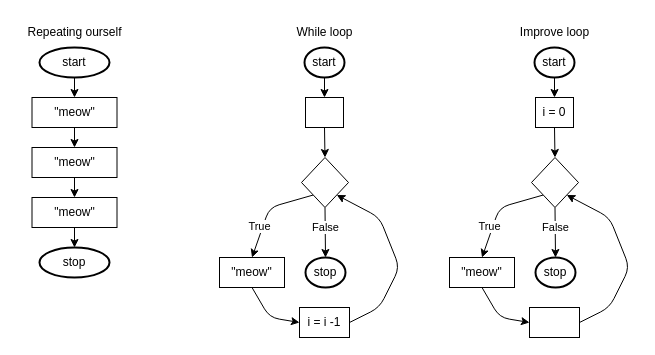
This 655x355 diagram has some shape labels left out. Here are the shapes that lost their labels. From the top down, the box of each, then its label:
(304, 96, 344, 128): i = 3
(300, 156, 348, 208): i != 0
(530, 156, 578, 208): i < 3
(528, 306, 580, 338): i += 1
